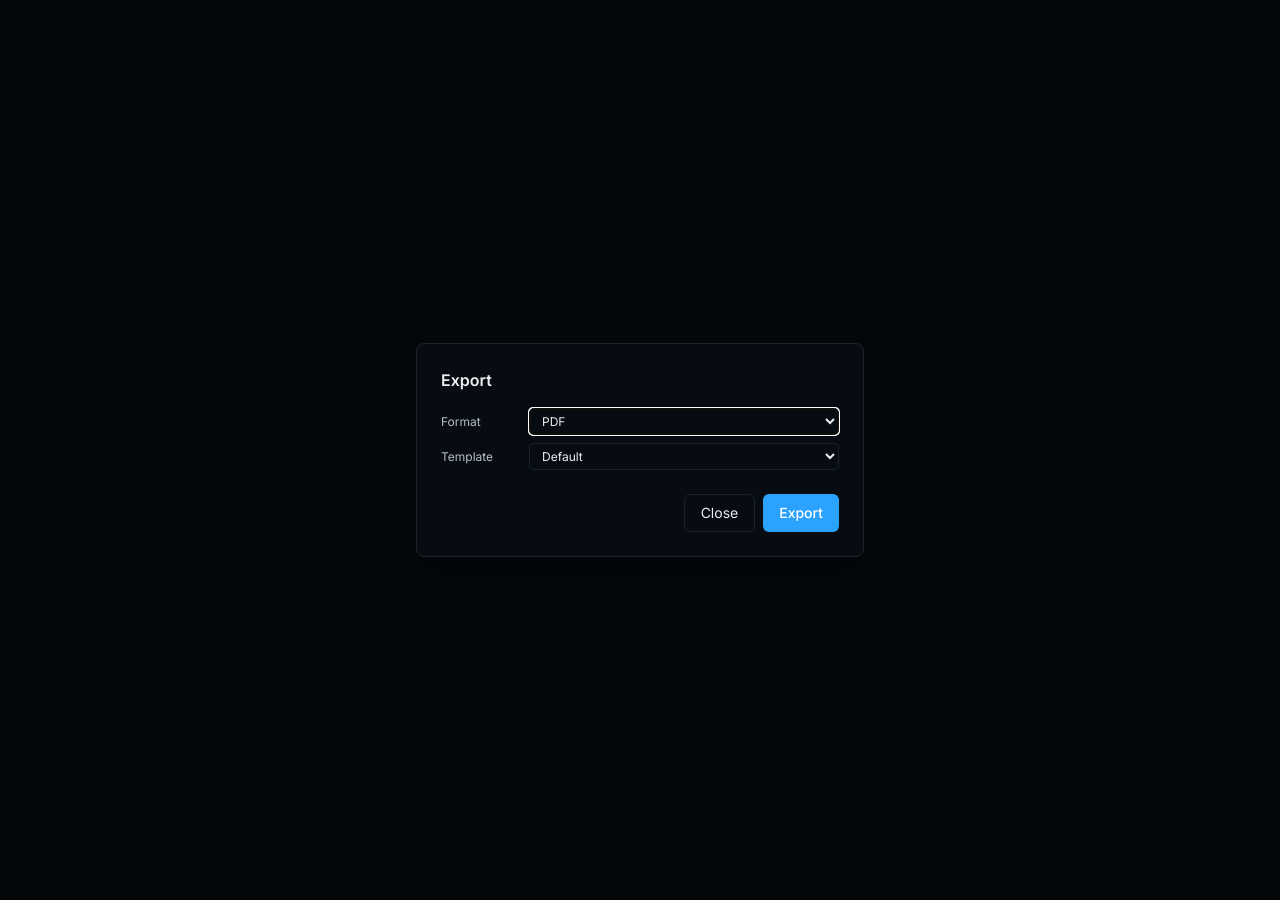
Scenario: ExportDialog › shows the error message from a failed export result
Click the button "Export". click: (801, 513)
box: [763, 494, 839, 532]
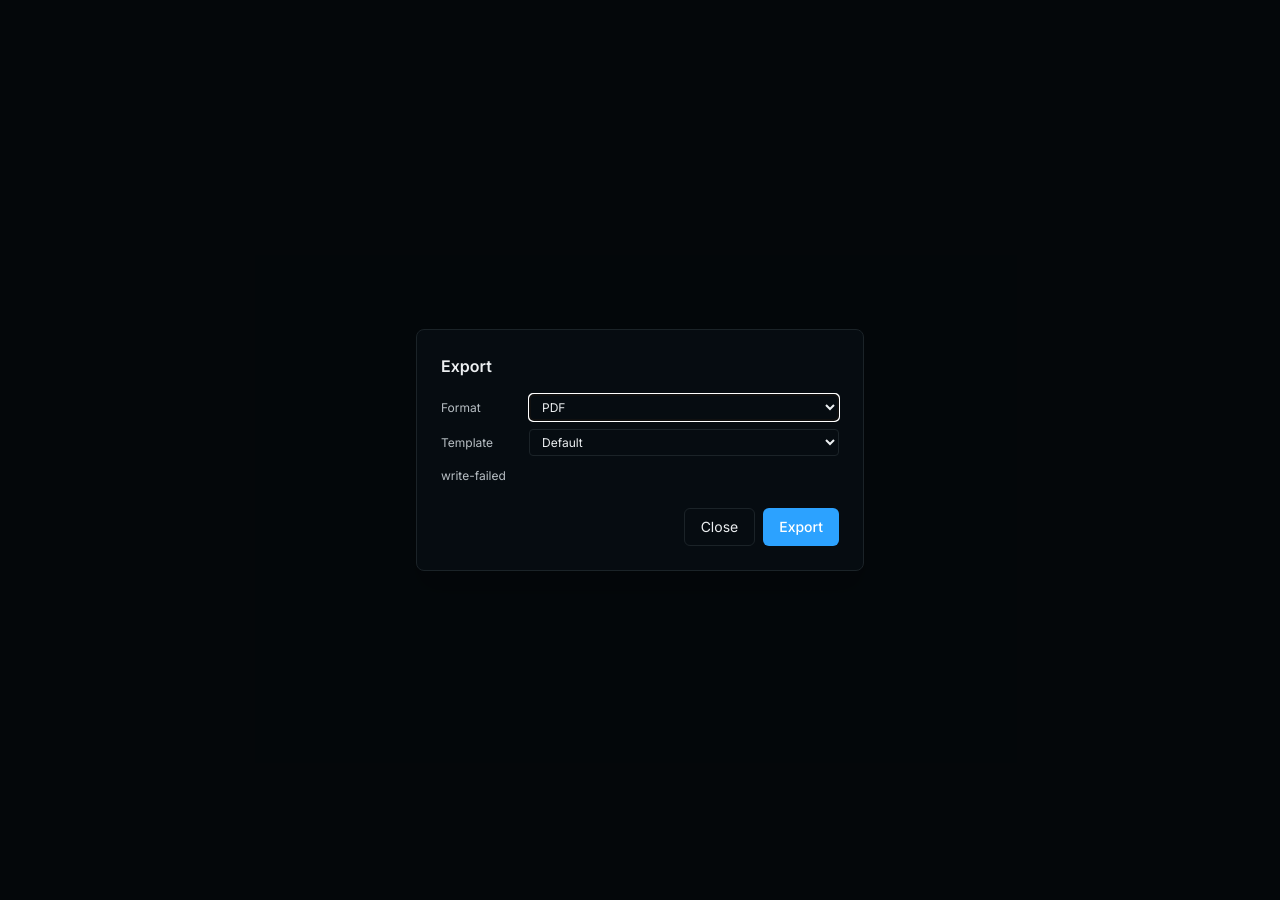
Check: the text "write-failed" is shown, box [441, 468, 506, 483]
